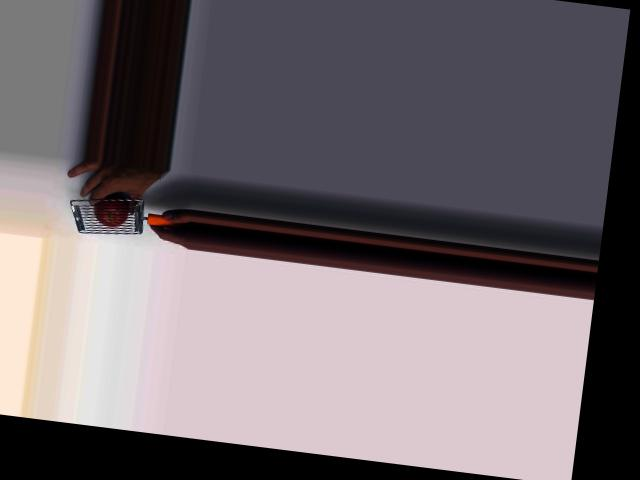tomato: (93, 192, 131, 228)
